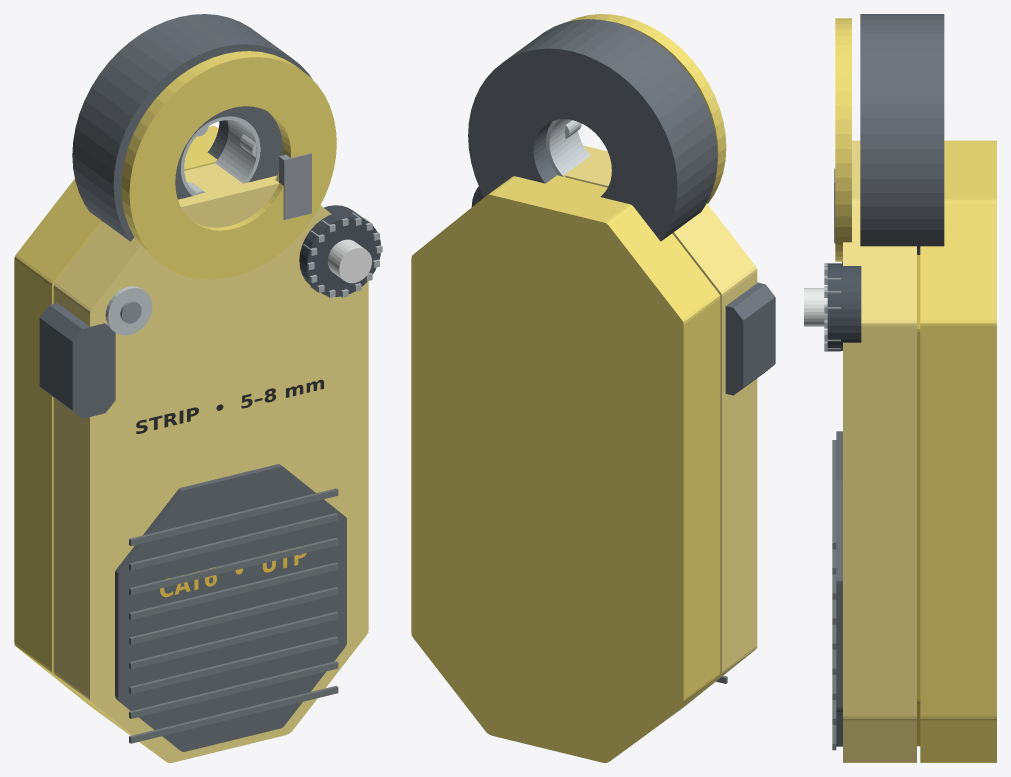
Rendered from stripper.glb.
The picture shows the model from 3 angles, left to right: view 1: azimuth 30°, elevation 25°; view 2: azimuth 150°, elevation 25°; view 3: azimuth 270°, elevation 25°; orthographic projection. The views are drawn at different scales.
Visible parts, largest first — view 1: A2_Yellow_Clamshell_Upper, A4_Black_Rubber_Grip, B3_Top_Clamping_Lip, A1_Yellow_Clamshell_Lower, B1_Upper_Circular_Cable_Collar, D3_Side_Safety_Latch, C1_Adjustment_Wheel_Outer, B2_Chrome_Inner_Cable_Guide, C5_Cutting_Blade_Recess, A5_Grip_Rib_03, A5_Grip_Rib_00, A5_Grip_Rib_02 (+10 smaller); view 2: A1_Yellow_Clamshell_Lower, B1_Upper_Circular_Cable_Collar, A2_Yellow_Clamshell_Upper, D3_Side_Safety_Latch, B3_Top_Clamping_Lip, B2_Chrome_Inner_Cable_Guide; view 3: A1_Yellow_Clamshell_Lower, A2_Yellow_Clamshell_Upper, B1_Upper_Circular_Cable_Collar, B3_Top_Clamping_Lip, C1_Adjustment_Wheel_Outer, A4_Black_Rubber_Grip, A3_Separation_Seam, C2_Adjustment_Wheel_Metal_Pin, A5_Grip_Rib_08.
Part boxes in pixels (x1,y1,x2,y2): A2_Yellow_Clamshell_Upper: (53, 163, 368, 762); A4_Black_Rubber_Grip: (115, 464, 346, 751); B3_Top_Clamping_Lip: (121, 51, 336, 279); A1_Yellow_Clamshell_Lower: (14, 126, 218, 732); B1_Upper_Circular_Cable_Collar: (72, 14, 311, 241); D3_Side_Safety_Latch: (39, 303, 115, 418); C1_Adjustment_Wheel_Outer: (299, 205, 380, 296); B2_Chrome_Inner_Cable_Guide: (180, 116, 260, 195); C5_Cutting_Blade_Recess: (279, 153, 311, 219); A5_Grip_Rib_03: (129, 611, 338, 669); A5_Grip_Rib_00: (129, 686, 338, 743); A5_Grip_Rib_02: (129, 636, 338, 694); A1_Yellow_Clamshell_Lower: (411, 175, 720, 762); B1_Upper_Circular_Cable_Collar: (468, 19, 717, 241); A2_Yellow_Clamshell_Upper: (564, 145, 757, 732); D3_Side_Safety_Latch: (725, 282, 775, 395); B3_Top_Clamping_Lip: (567, 14, 726, 203); B2_Chrome_Inner_Cable_Guide: (546, 119, 608, 187); A1_Yellow_Clamshell_Lower: (920, 140, 996, 762); A2_Yellow_Clamshell_Upper: (843, 140, 916, 762); B1_Upper_Circular_Cable_Collar: (860, 14, 944, 254); B3_Top_Clamping_Lip: (835, 18, 851, 261); C1_Adjustment_Wheel_Outer: (827, 263, 861, 350); A4_Black_Rubber_Grip: (836, 431, 842, 746); A3_Separation_Seam: (917, 255, 920, 746); C2_Adjustment_Wheel_Metal_Pin: (804, 288, 827, 326); A5_Grip_Rib_08: (832, 440, 836, 549).
Size of the model in its own units: 42.2 by 93 by 22.95.
13 materials, 2 textured.
